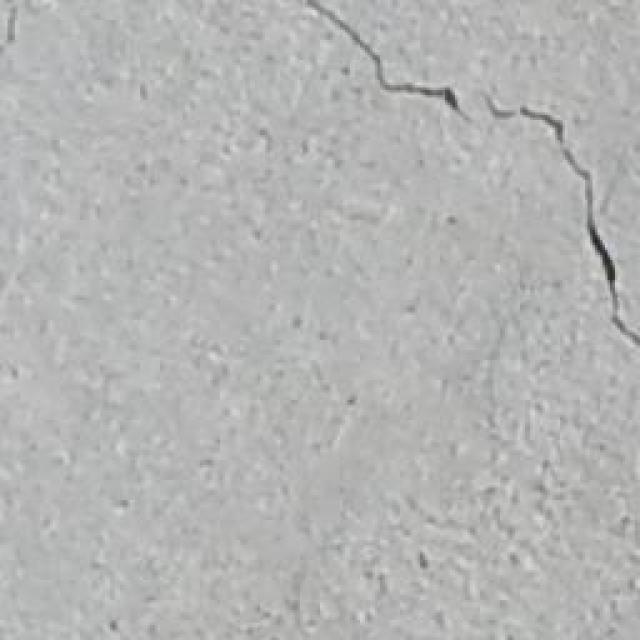concrete-crack: (302, 1, 640, 346)
